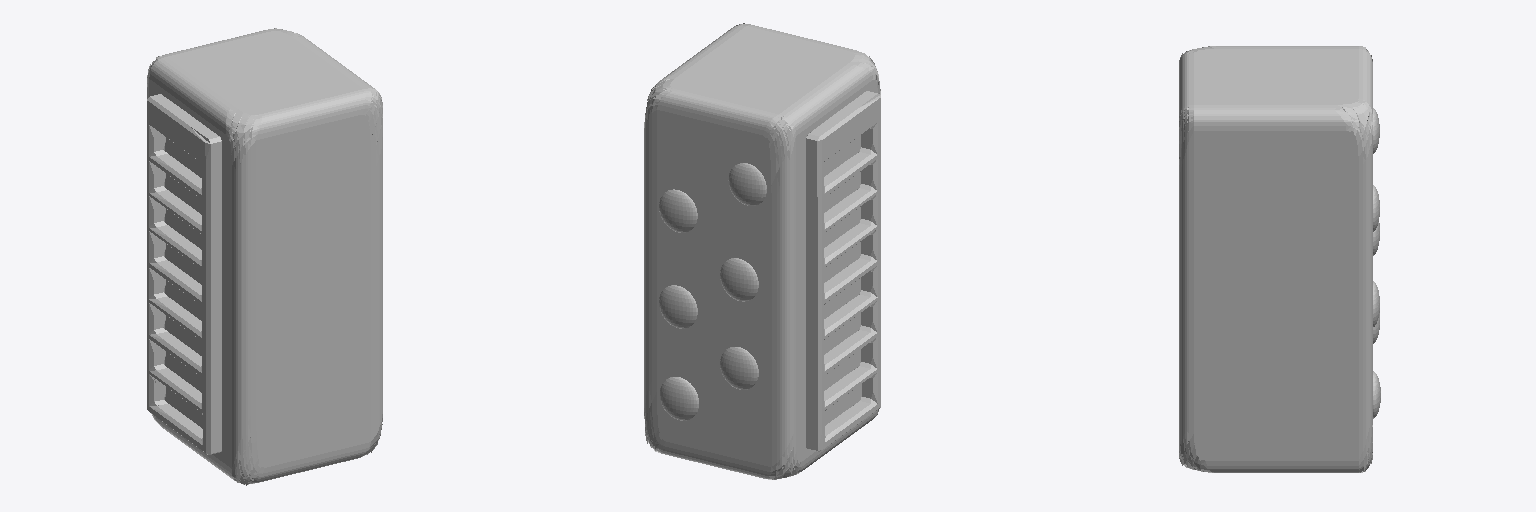
Rendered from sanfonadir.obj.
The picture shows the model from 3 angles: view 1: azimuth 30°, elevation 25°; view 2: azimuth 150°, elevation 25°; view 3: azimuth 270°, elevation 25°; orthographic projection.
Visible parts, largest first — view 1: Cube.002, Cube.031, Cube.030; view 2: Cube.002, Cube.031, Cube.030, Botao6.001, Botao4.001, Botao3.001, Botao2.001, Botao5.001, Botao1; view 3: Cube.002.
Boxes of the visible parts, x1,y1,x2,y2 form: Cube.002: [147, 28, 382, 485]; Cube.031: [147, 94, 215, 454]; Cube.030: [152, 94, 221, 454]; Cube.002: [644, 23, 880, 479]; Cube.031: [807, 91, 880, 451]; Cube.030: [806, 91, 868, 447]; Botao6.001: [660, 377, 698, 420]; Botao4.001: [659, 285, 697, 328]; Botao3.001: [720, 258, 758, 301]; Botao2.001: [659, 189, 697, 232]; Botao5.001: [720, 347, 758, 389]; Botao1: [728, 163, 766, 205]; Cube.002: [1179, 46, 1372, 472].
Size of the model in its own units: 0.7558 by 1.61 by 0.8083.